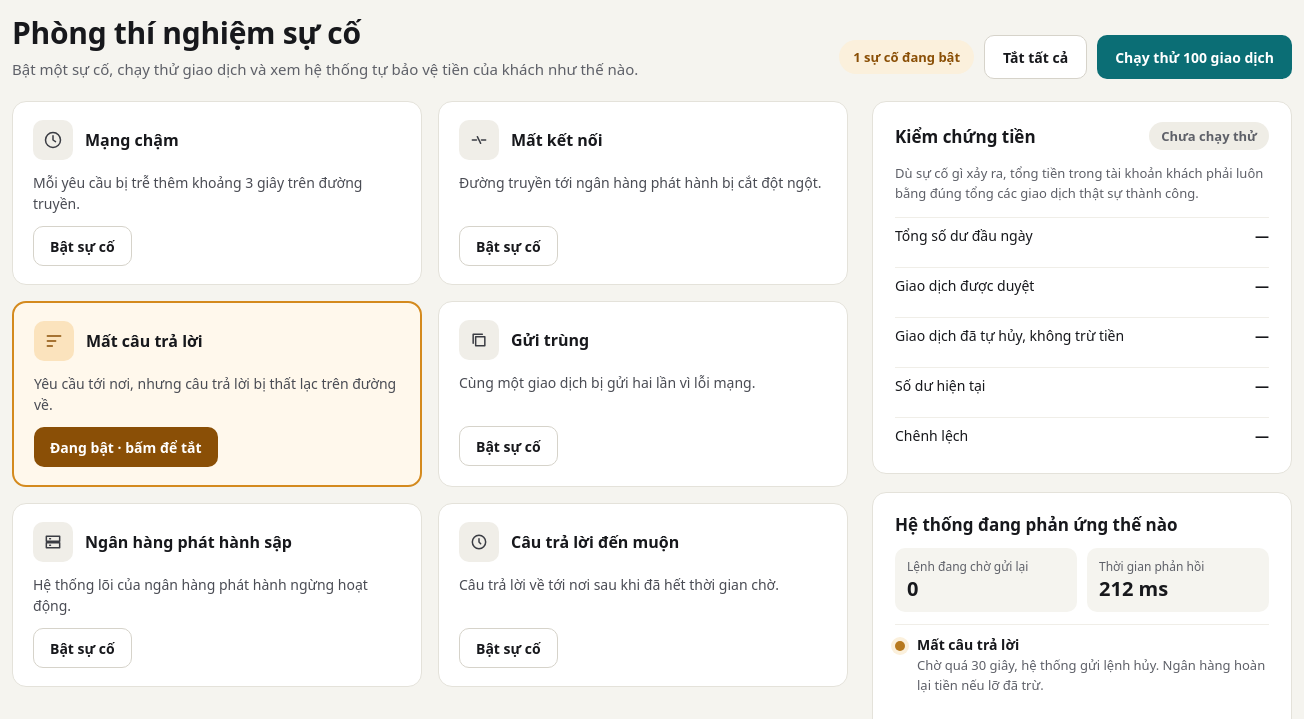
Test: ChaosLabScreen › turns a scenario on and lists its reaction __MCN_405_AC1_AC3
The image size is (1304, 719).
Check: the text "1 sự cố đang bật" is shown, box [839,40,974,74]
Click the button "Bật sự cố" below "Mạng chậm" at [82, 246], box [33,226,132,266]
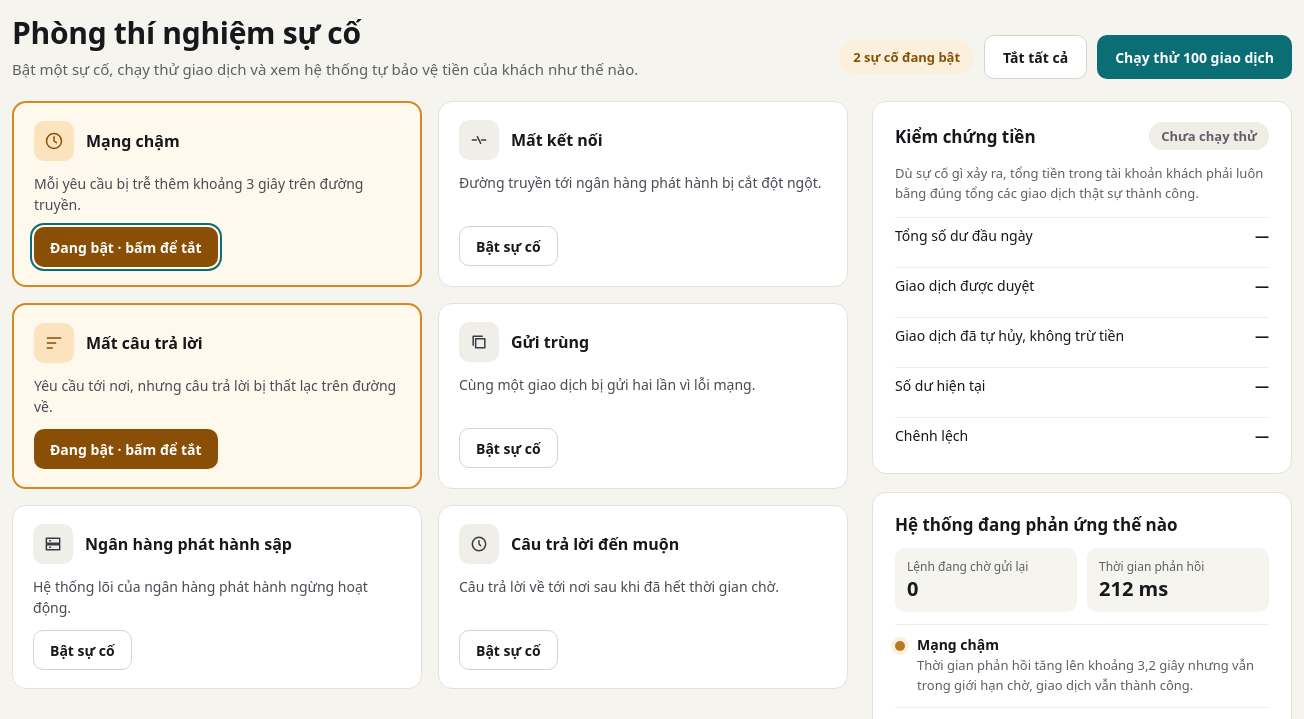
Check: the text "2 sự cố đang bật" is shown, box [839,40,974,74]
